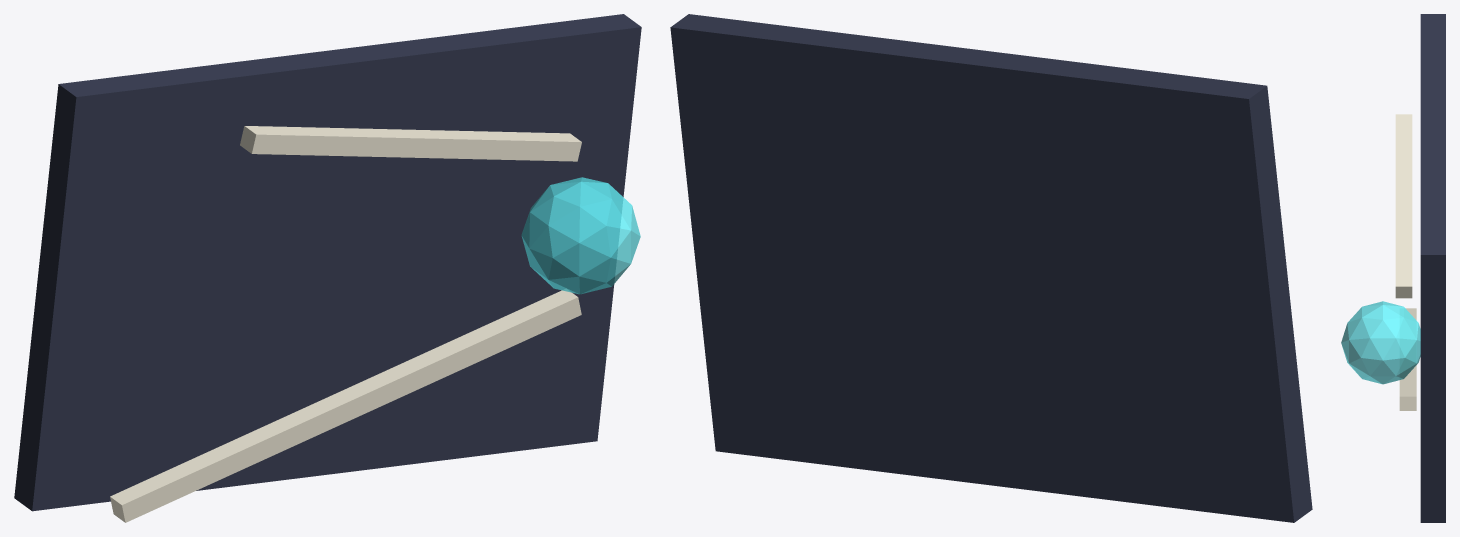
Rendered from 02_world_prop_polish.glb.
3 views of the same model, side by side, from view 1: azimuth 30°, elevation 25°; view 2: azimuth 150°, elevation 25°; view 3: azimuth 270°, elevation 25° (orthographic). The views are drawn at different scales.
Visible parts, largest first — view 1: object_overlay_plate, edge_wear_a, glow_socket, edge_wear_b; view 2: object_overlay_plate; view 3: object_overlay_plate, glow_socket, edge_wear_b, edge_wear_a.
Boxes of the visible parts, left/top/right/bottom form: object_overlay_plate: left=14, top=14, right=641, bottom=511; edge_wear_a: left=110, top=289, right=581, bottom=522; glow_socket: left=521, top=177, right=640, bottom=294; edge_wear_b: left=240, top=126, right=581, bottom=161; object_overlay_plate: left=670, top=14, right=1312, bottom=522; object_overlay_plate: left=1420, top=14, right=1445, bottom=522; glow_socket: left=1341, top=301, right=1420, bottom=384; edge_wear_b: left=1395, top=114, right=1412, bottom=298; edge_wear_a: left=1399, top=308, right=1416, bottom=410.
Size of the model in its own units: 1.18 by 0.8705 by 0.25.
